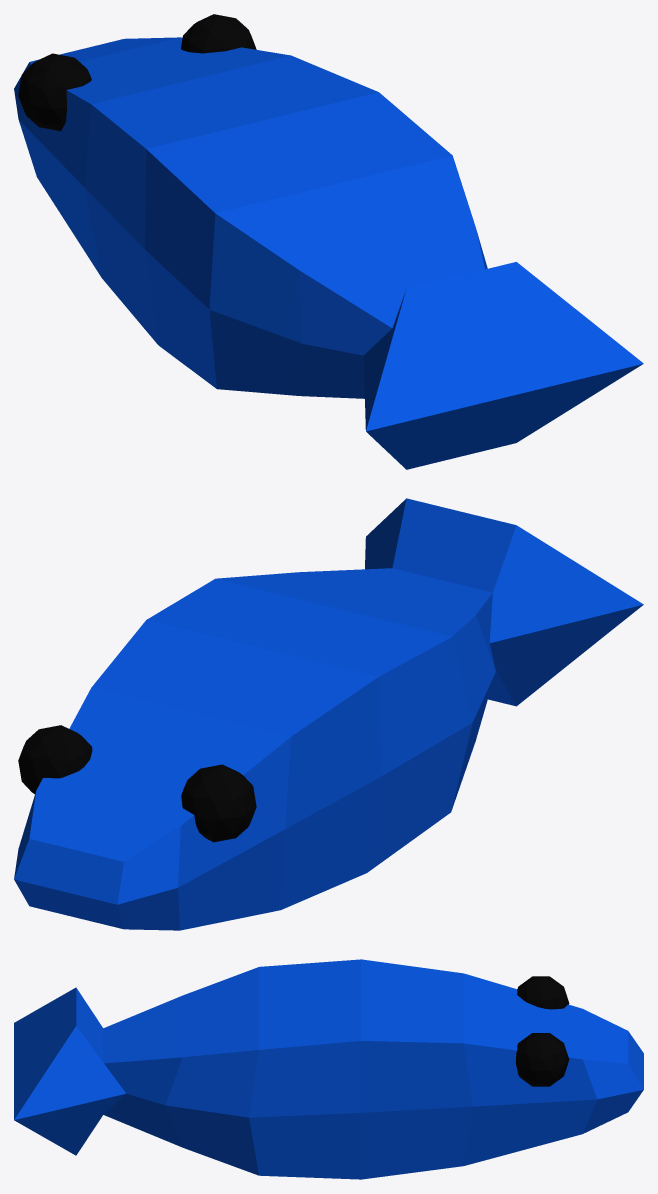
Rendered from Fish.fbx.
3 views of the same model, one above another, from view 1: azimuth 30°, elevation 25°; view 2: azimuth 150°, elevation 25°; view 3: azimuth 270°, elevation 25° (orthographic). The views are drawn at different scales.
Parts seen in each view (by area): view 1: Cube, Icosphere, Icosphere.001; view 2: Cube, Icosphere, Icosphere.001; view 3: Cube, Icosphere.001, Icosphere.
Part boxes in pixels (box(x1,y1,x2,y2)): Cube: box(14, 37, 643, 469); Icosphere: box(18, 53, 91, 131); Icosphere.001: box(181, 14, 256, 53); Cube: box(14, 498, 643, 930); Icosphere: box(181, 764, 256, 842); Icosphere.001: box(18, 725, 92, 794); Cube: box(14, 959, 643, 1179); Icosphere.001: box(515, 1033, 569, 1086); Icosphere: box(517, 976, 569, 1009).
Size of the model in its own units: 156 by 107 by 428.
